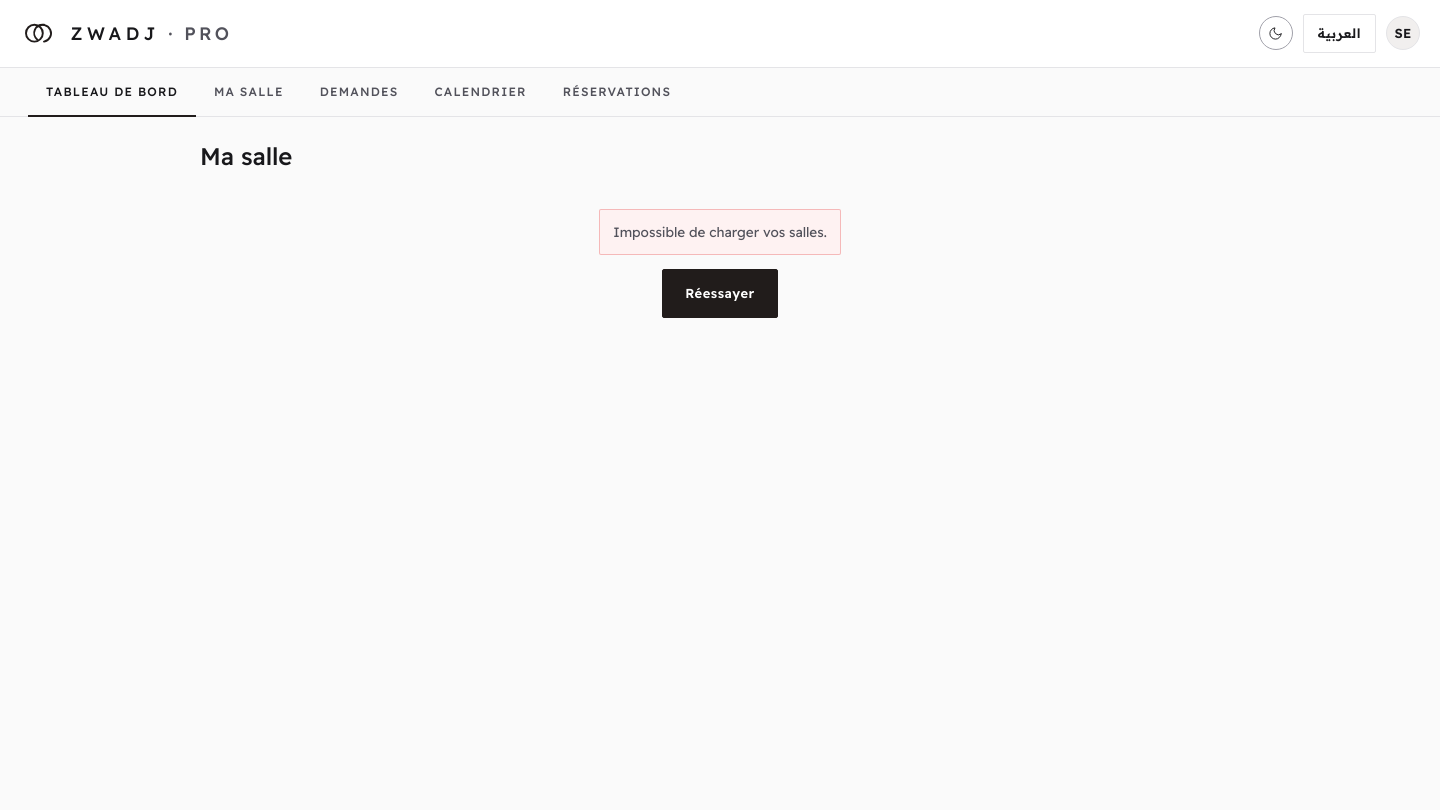
Liste des salles — rendu des cartes › état ERREUR : message + « Réessayer » qui relance réellement l'appel
The image size is (1440, 810).
Check: the text "Impossible de charger vos salles." is shown, box [599,209,841,255]
Click the button "Réessayer".
click(720, 293)  # box [662,269,778,318]
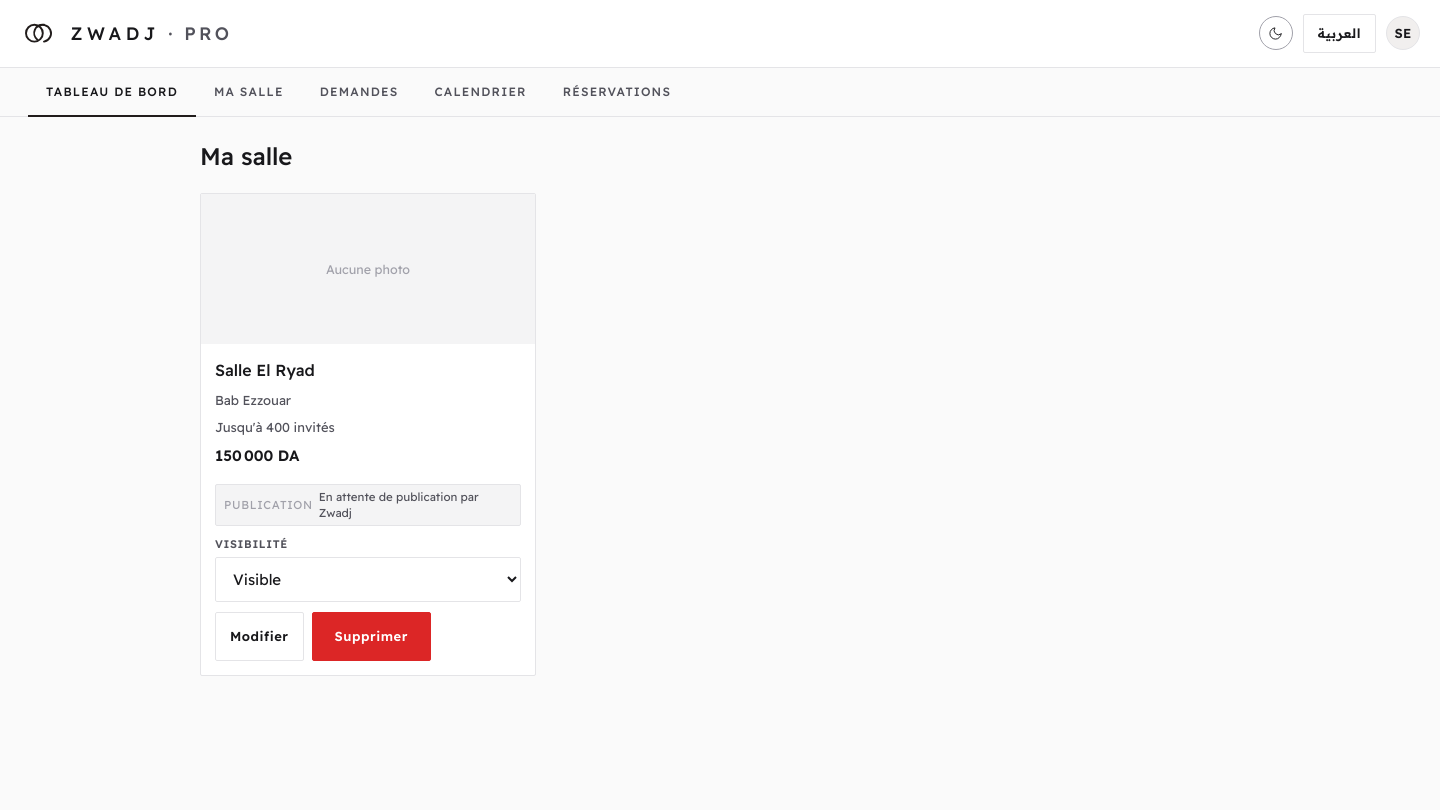
Check: the heading "Salle El Ryad" is shown, box [215,360,315,380]
